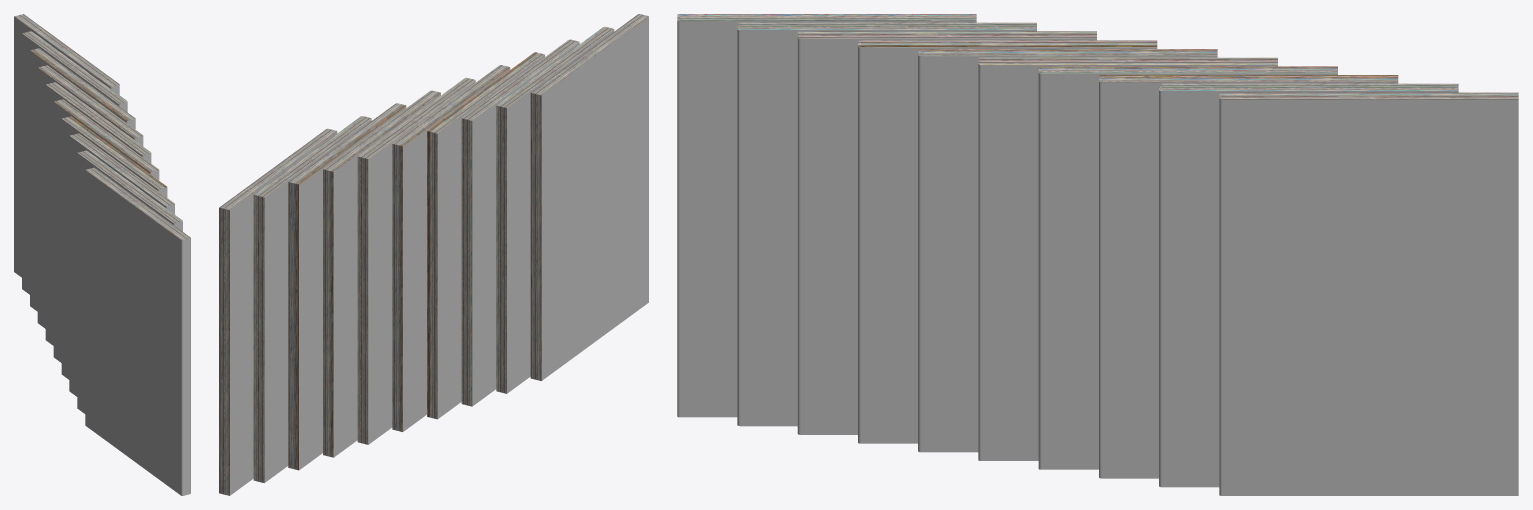
File: Nat geo mag.fbx
3 views of the same model, side by side, from view 1: azimuth 30°, elevation 25°; view 2: azimuth 150°, elevation 25°; view 3: azimuth 270°, elevation 25° (orthographic). The views are drawn at different scales.
Parts seen in each view (by area): view 1: NGM.001, NGM.004, NGM.005, NGM.006, NGM.007, NGM.003, NGM.002, NGM.009, NGM.008, NGM.010; view 2: NGM.001, NGM.006, NGM.003, NGM.009, NGM.010, NGM.002, NGM.007, NGM.008, NGM.004, NGM.005; view 3: NGM.010, NGM.002, NGM.009, NGM.003, NGM.006, NGM.007, NGM.001, NGM.005, NGM.004, NGM.008.
Boxes of the visible parts, box(x1,y1,x2,y2) form: NGM.001: box(85, 167, 190, 495); NGM.004: box(61, 116, 167, 379); NGM.005: box(53, 99, 159, 362); NGM.006: box(45, 82, 151, 345); NGM.007: box(37, 65, 143, 328); NGM.003: box(69, 133, 174, 396); NGM.002: box(77, 150, 182, 413); NGM.009: box(22, 31, 127, 294); NGM.008: box(30, 48, 135, 311); NGM.010: box(14, 14, 119, 277); NGM.001: box(530, 14, 648, 380); NGM.006: box(357, 77, 475, 444); NGM.003: box(461, 39, 579, 406); NGM.009: box(253, 116, 371, 482); NGM.010: box(219, 128, 337, 495); NGM.002: box(496, 26, 614, 393); NGM.007: box(323, 90, 440, 457); NGM.008: box(288, 103, 406, 470); NGM.004: box(427, 52, 544, 419); NGM.005: box(392, 65, 510, 431); NGM.010: box(1219, 92, 1518, 495); NGM.002: box(737, 22, 1036, 426); NGM.009: box(1159, 83, 1458, 487); NGM.003: box(797, 31, 1096, 434); NGM.006: box(978, 57, 1277, 460); NGM.007: box(1038, 66, 1337, 469); NGM.001: box(677, 14, 976, 417); NGM.005: box(918, 49, 1217, 452); NGM.004: box(858, 40, 1157, 443); NGM.008: box(1099, 75, 1398, 478).
Size of the model in its own units: 11.8 by 25.4 by 48.9.
